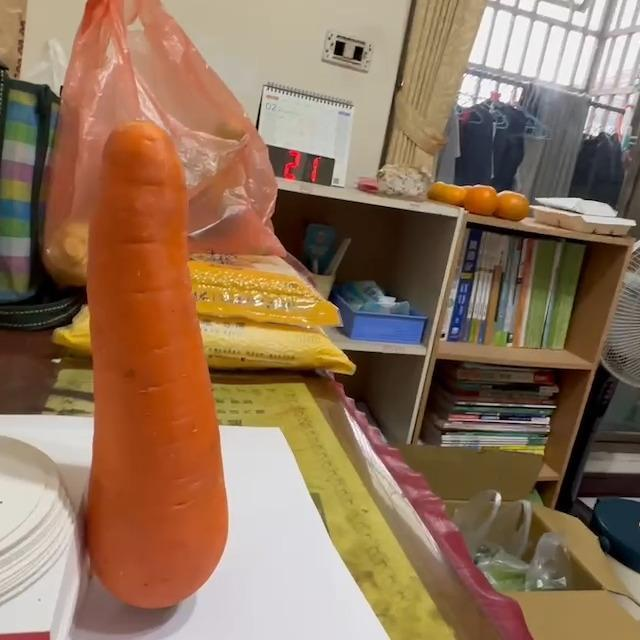carrot: (84, 118, 233, 611)
